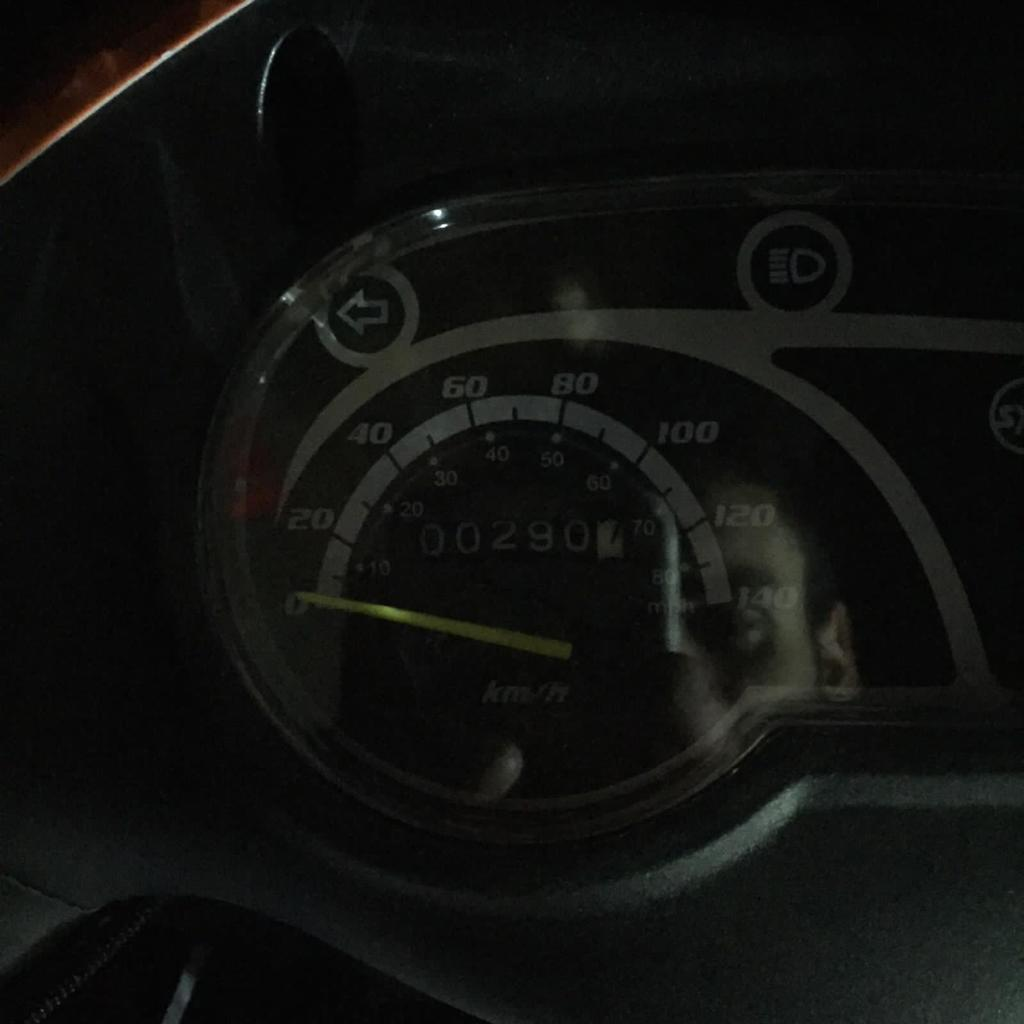0: (418, 521, 445, 557), (563, 518, 590, 553), (455, 520, 480, 554)
2: (490, 518, 517, 550)
7: (598, 515, 621, 545)
9: (526, 520, 553, 551)
odometer: (404, 512, 630, 564)
